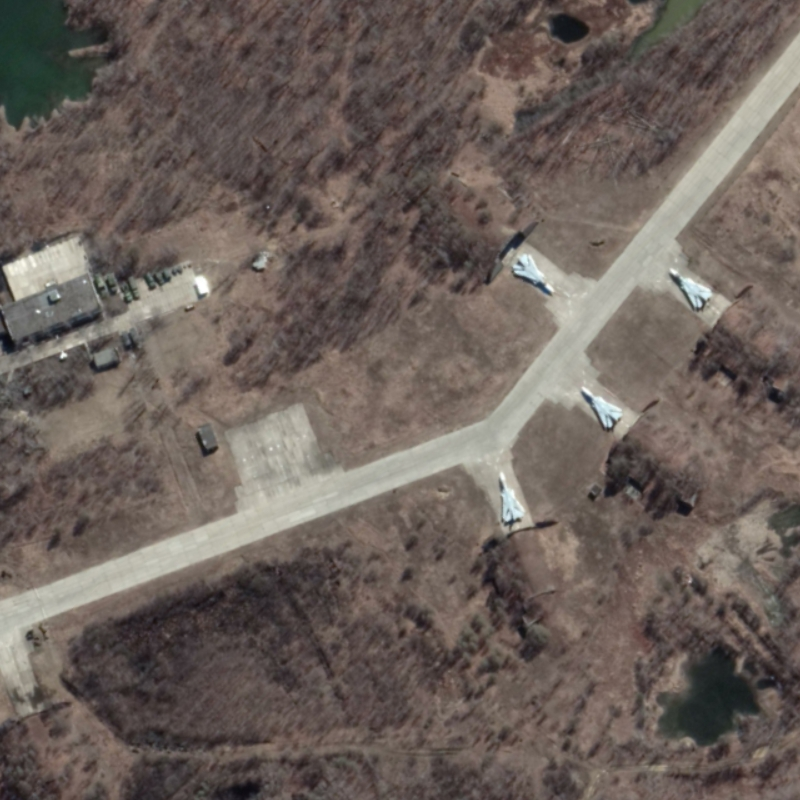A20: (579, 385, 624, 430), (511, 252, 557, 295), (668, 266, 714, 309), (497, 470, 527, 524)
